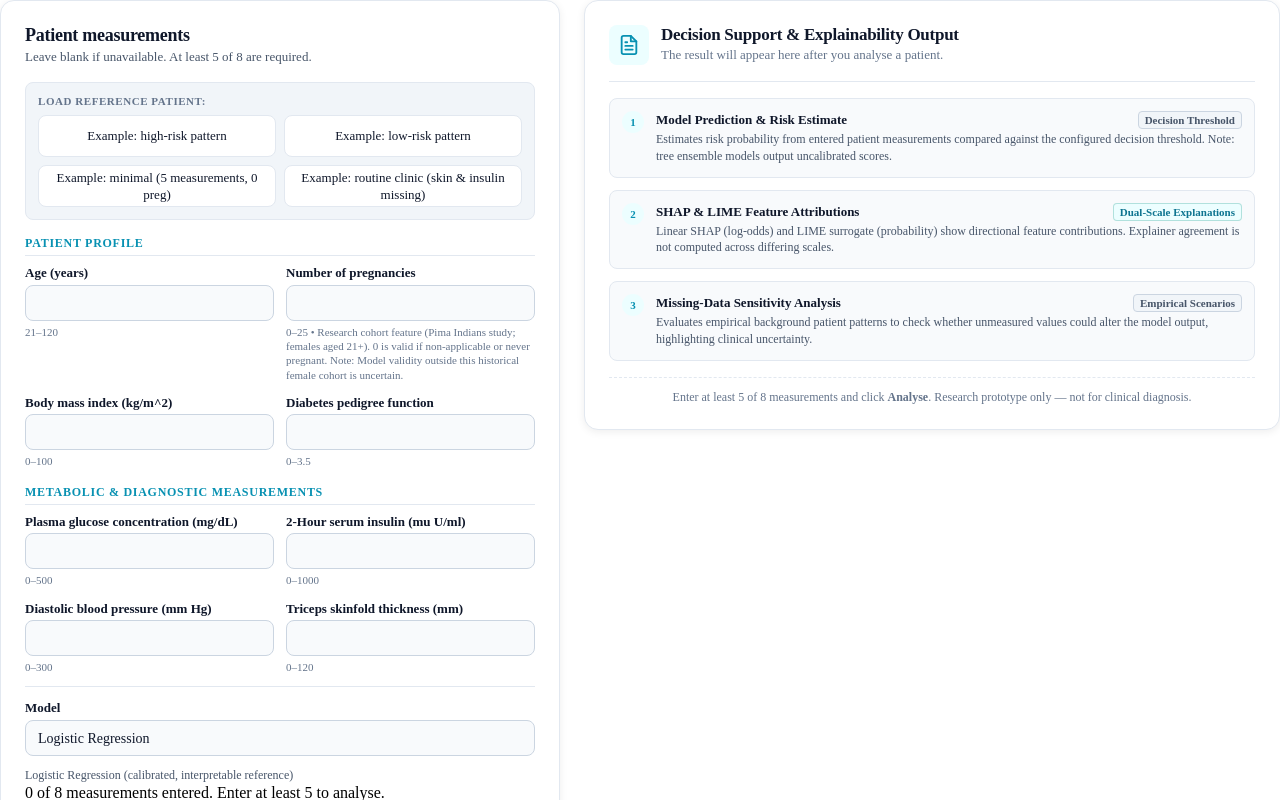
PredictionPage › renders computed sensitivity and uncertain verdict when returned by the API
The image size is (1280, 800).
Click the button "Example: routine clinic (skin & insulin missing)" at (403, 186), box left=284, top=165, right=522, bottom=207
(page scrolled)
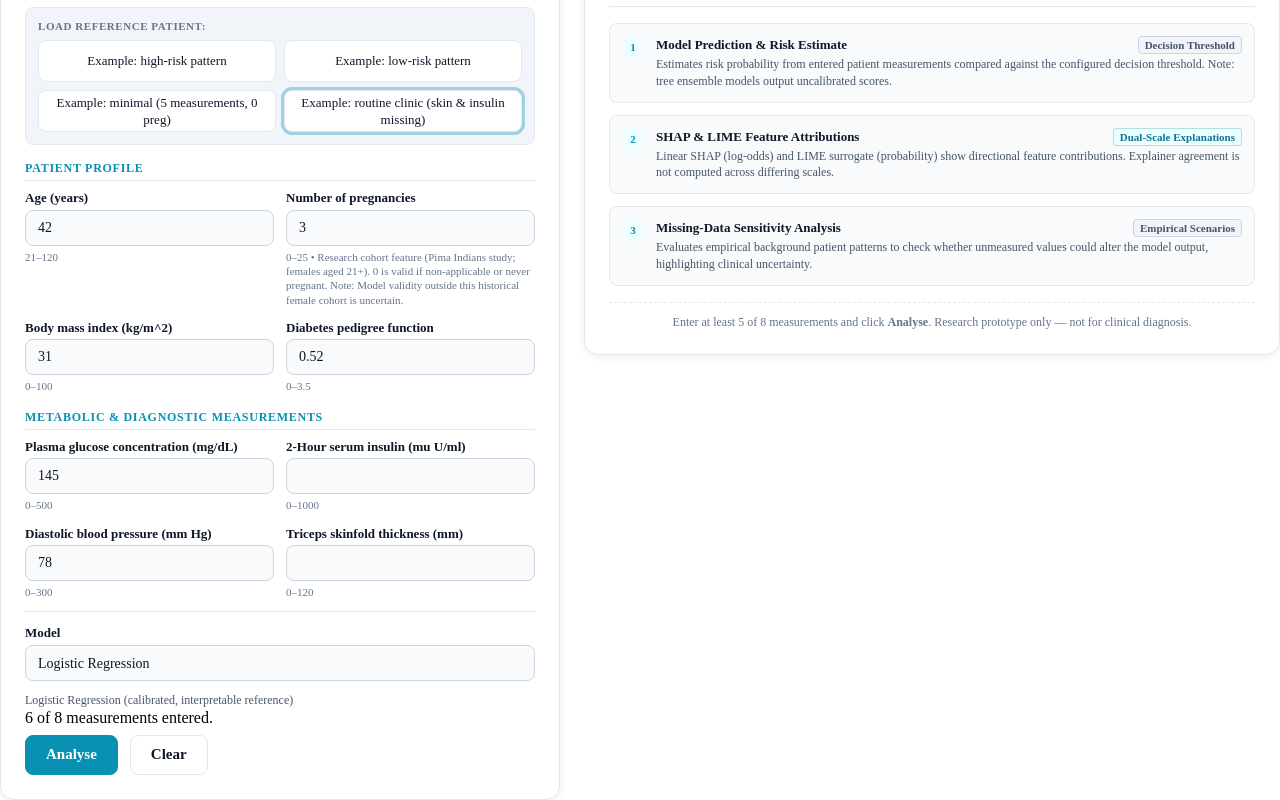
Click the button "Analyse" at (71, 755), box left=25, top=735, right=118, bottom=775
(page scrolled)
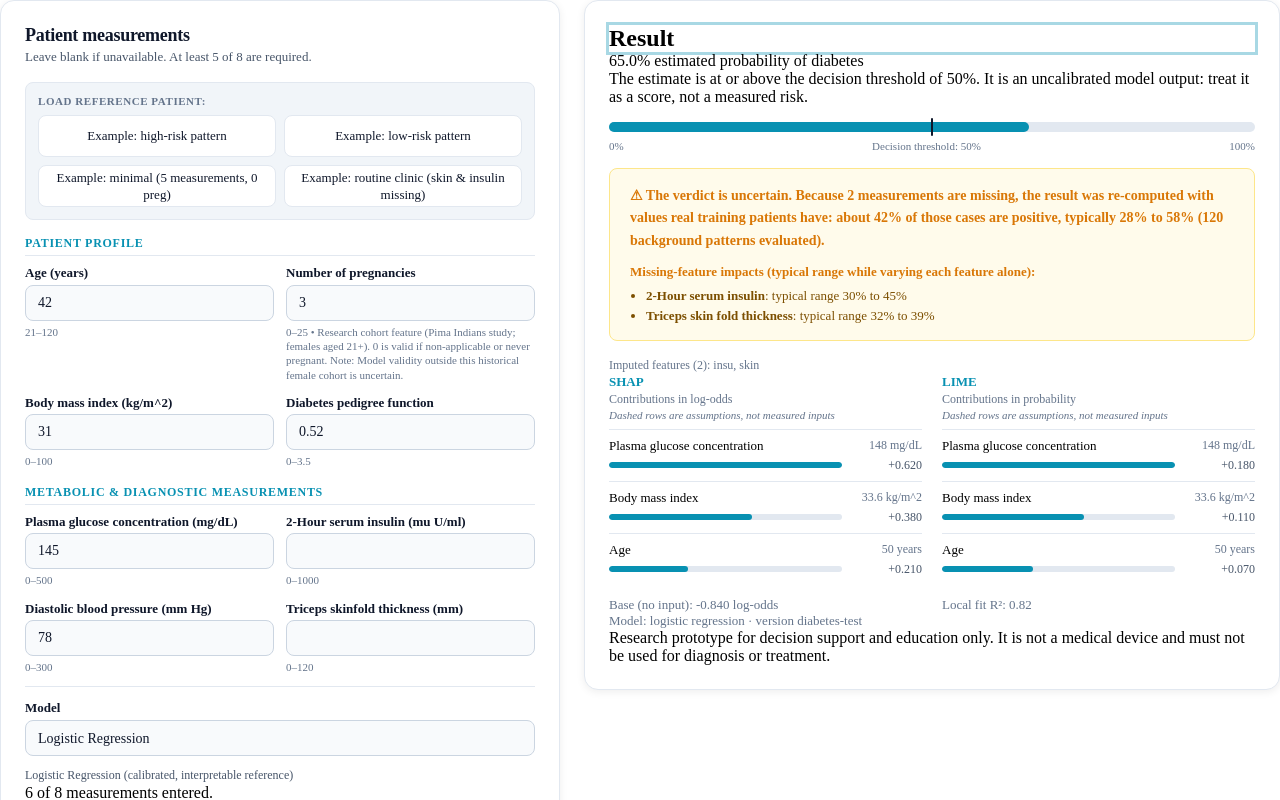
Result: the text "65.0%" is shown at left=609, top=52, right=650, bottom=69
Result: the text "120 background patterns evaluated" is shown at left=630, top=188, right=1223, bottom=248
Result: the text "2-Hour serum insulin" is shown at left=646, top=288, right=765, bottom=303
